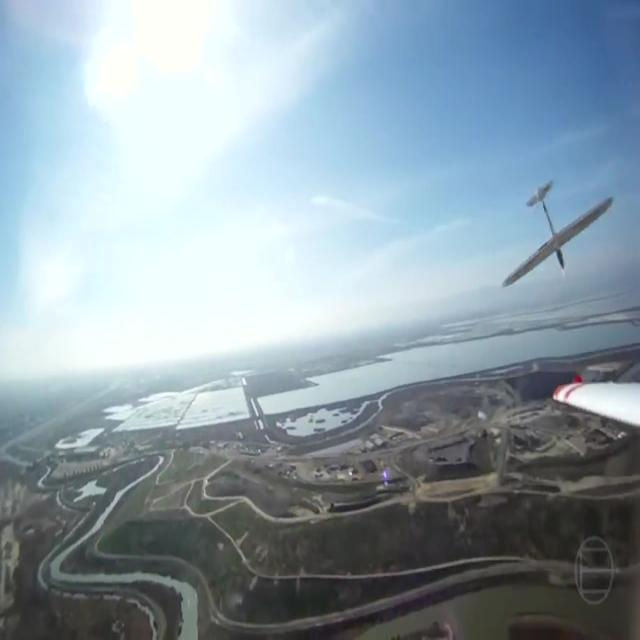iha: (531, 208, 582, 258)
